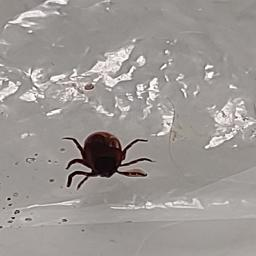Ixodes scapularis: (63, 132, 155, 190)
